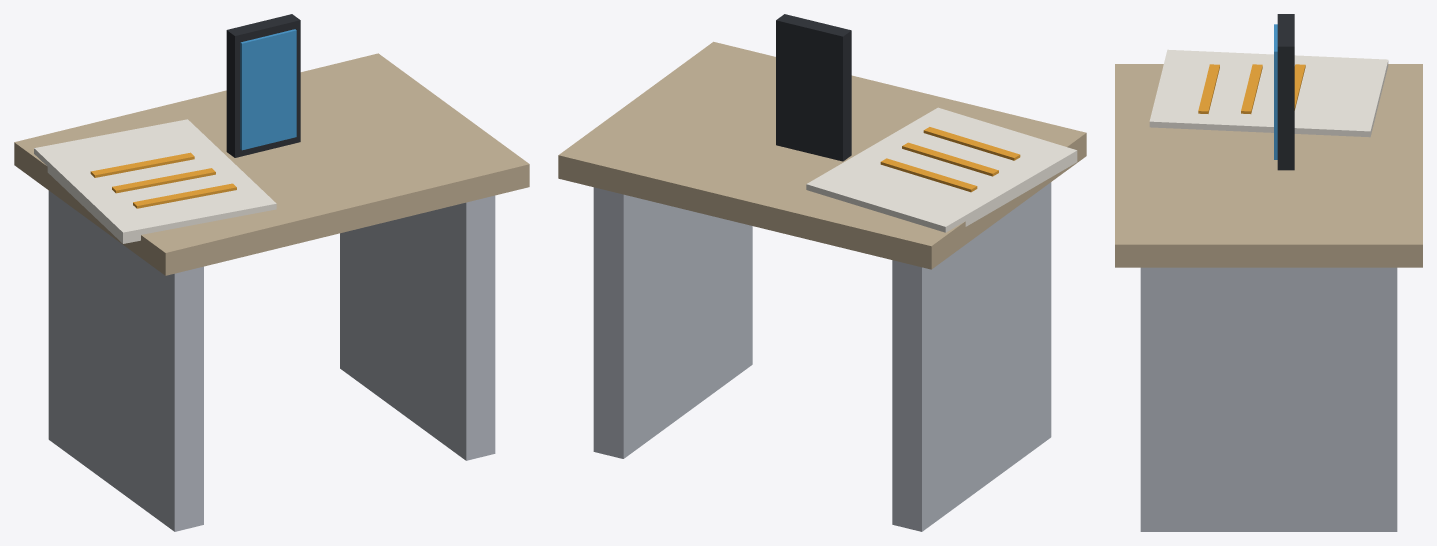
File: station_special_2.glb
3 renders of one model, left to right at view 1: azimuth 30°, elevation 25°; view 2: azimuth 150°, elevation 25°; view 3: azimuth 270°, elevation 25°, orthographic. The views are drawn at different scales.
Parts seen in each view (by area): view 1: tisch_platte, tisch_bein, tisch_bein.001, notizblock, handy_schirm, handy_koerper, notiz_zeile_2, notiz_zeile_0, notiz_zeile_1; view 2: tisch_platte, tisch_bein, tisch_bein.001, notizblock, handy_koerper, notiz_zeile_2, notiz_zeile_0, notiz_zeile_1; view 3: tisch_bein.001, tisch_platte, notizblock, handy_koerper, notiz_zeile_1, notiz_zeile_0, handy_schirm.
Boxes of the visible parts, x1,y1,x2,y2 form: tisch_platte: (14,53,529,275); tisch_bein: (48,190,203,531); tisch_bein.001: (340,195,495,460); notizblock: (34,119,276,243); handy_schirm: (240,29,296,150); handy_koerper: (226,14,300,157); notiz_zeile_2: (90,152,194,177); notiz_zeile_0: (133,183,236,208); notiz_zeile_1: (112,168,215,193); tisch_platte: (558,41,1086,269); tisch_bein: (892,182,1051,531); tisch_bein.001: (593,187,752,458); notizblock: (806,107,1077,232); handy_koerper: (776,14,851,161); notiz_zeile_2: (880,158,977,192); notiz_zeile_0: (923,127,1020,160); notiz_zeile_1: (902,142,998,176); tisch_bein.001: (1140,267,1397,531); tisch_platte: (1115,64,1422,267); notizblock: (1149,49,1388,137); handy_koerper: (1277,14,1294,170); notiz_zeile_1: (1241,64,1262,113); notiz_zeile_0: (1198,64,1219,113); handy_schirm: (1274,24,1277,159).
Size of the model in its own units: 0.523 by 0.545 by 0.36.
